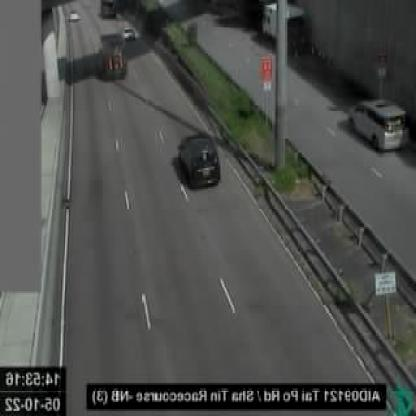Car: (179, 134, 221, 186), (123, 28, 138, 42), (70, 10, 81, 21)
Truck: (100, 33, 128, 80)
